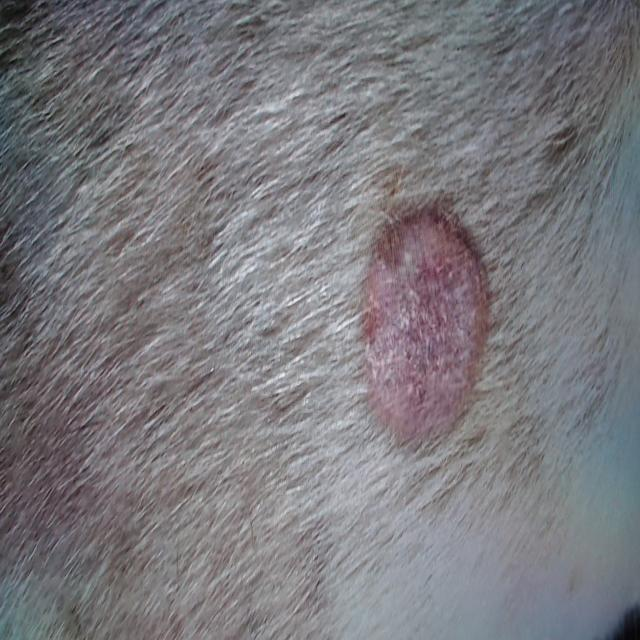ringworm: (348, 159, 504, 467)
